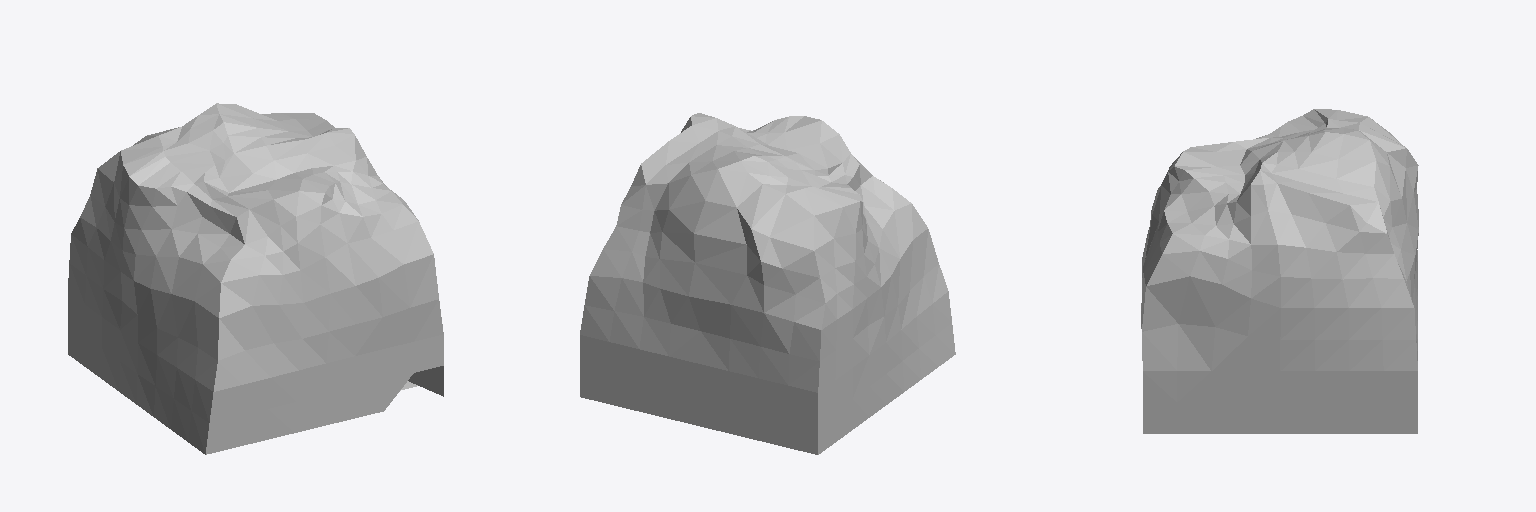
File: wall-broken-tri.obj
3 renders of one model, left to right at view 1: azimuth 30°, elevation 25°; view 2: azimuth 150°, elevation 25°; view 3: azimuth 270°, elevation 25°, orthographic.
Visible parts, largest first — view 1: Cube_Cube.001; view 2: Cube_Cube.001; view 3: Cube_Cube.001.
Boxes of the visible parts, <box> form: Cube_Cube.001: <box>68,103,443,454</box>; Cube_Cube.001: <box>580,113,955,454</box>; Cube_Cube.001: <box>1141,109,1418,433</box>.
Size of the model in its own units: 1 by 0.9591 by 1.01.